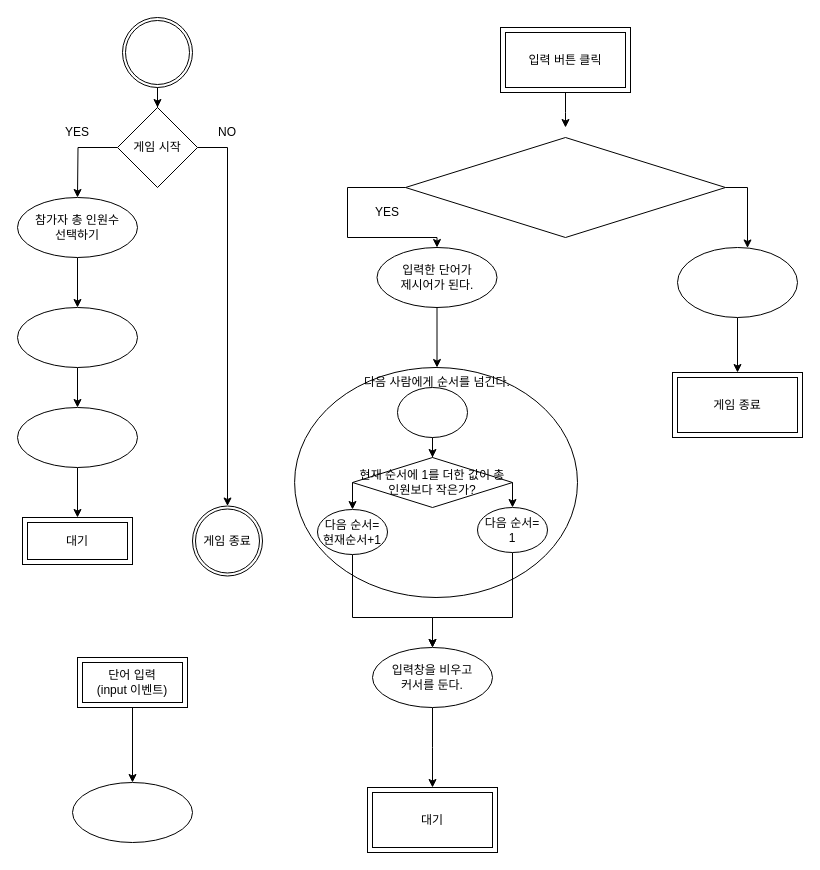
The diagram is 820 pixels wide and 870 high, and some of its shapes have lost their labels. Each missing label, with the centre of its shape:
"몇 번째 참가자가 졌다고 알려준다." belongs at pixel 737 282.
"시작" belongs at pixel 157 52.
"입력한 단어 저장 할 변수 만들기" belongs at pixel 77 437.
"입력한 단어를 저장한다" belongs at pixel 132 812.
"제시어 저장 할 변수 만들기" belongs at pixel 77 337.
"제시어가 비워져 있다 OR 입력한 단어가 올바르고 AND 세글자 이다" belongs at pixel 565 187.
"현재 순서 파악" belongs at pixel 432 412.
